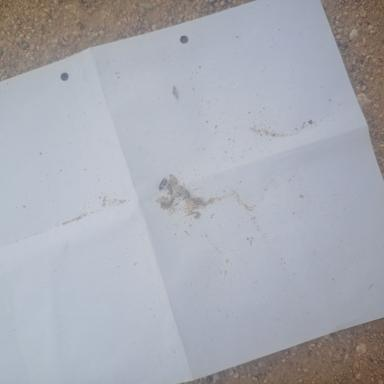pbw: (185, 196, 196, 211), (158, 178, 168, 190), (163, 179, 171, 190), (169, 174, 177, 184), (172, 86, 178, 99), (166, 197, 174, 206), (190, 196, 201, 201), (194, 201, 204, 206), (168, 184, 172, 195), (170, 193, 180, 197)
